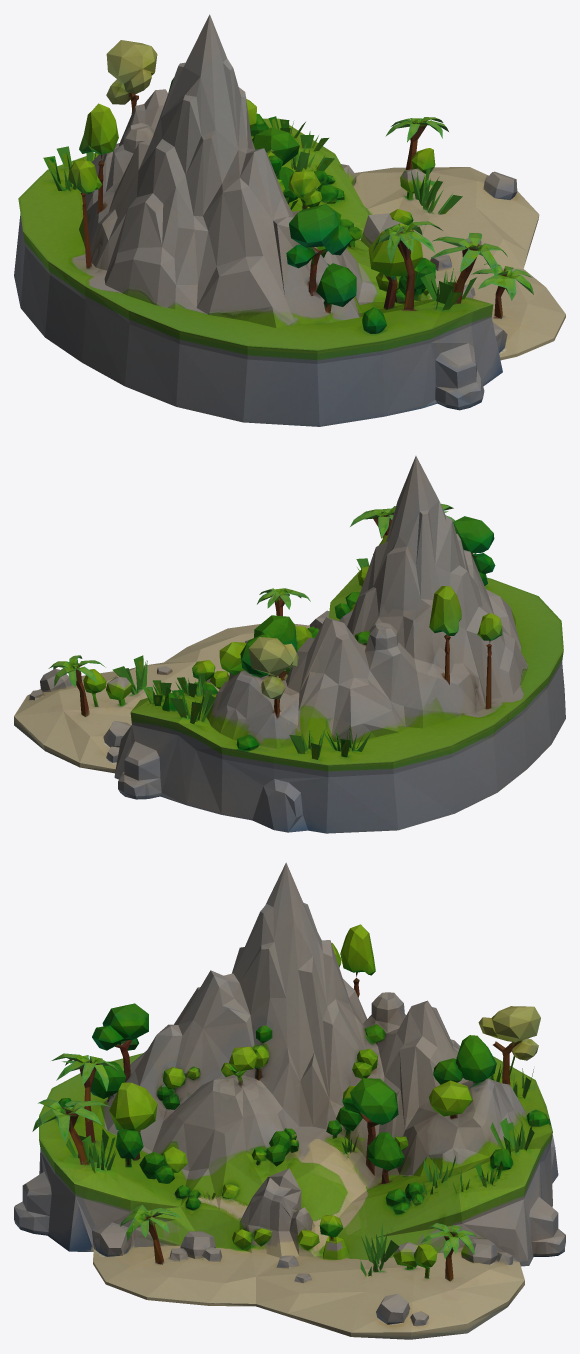
File: IslandMountain.glb
3 views of the same model, one above another, from view 1: azimuth 30°, elevation 25°; view 2: azimuth 150°, elevation 25°; view 3: azimuth 270°, elevation 25° (orthographic). The views are drawn at different scales.
Parts seen in each view (by area): view 1: tripo_node_9b81a989-95f6-413d-9f70-acd7117b9703; view 2: tripo_node_9b81a989-95f6-413d-9f70-acd7117b9703; view 3: tripo_node_9b81a989-95f6-413d-9f70-acd7117b9703.
Boxes of the visible parts, bbox=[...] form: tripo_node_9b81a989-95f6-413d-9f70-acd7117b9703: bbox=[14, 14, 565, 426]; tripo_node_9b81a989-95f6-413d-9f70-acd7117b9703: bbox=[14, 456, 565, 833]; tripo_node_9b81a989-95f6-413d-9f70-acd7117b9703: bbox=[14, 862, 565, 1339].
Bounding box in the file's own units: 673 × 414 × 676.
1 material, 1 textured.
